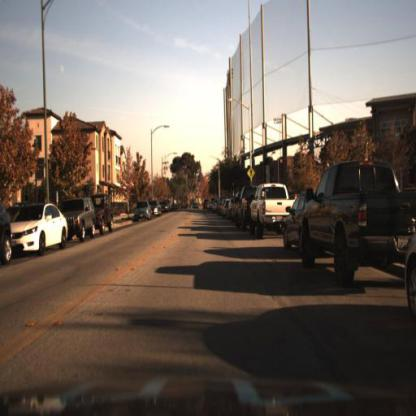car: (300, 157, 414, 292), (10, 204, 68, 262), (246, 180, 299, 239), (280, 188, 308, 265), (62, 197, 97, 247), (93, 189, 115, 237), (239, 184, 256, 228), (133, 197, 153, 224), (151, 198, 162, 218)
